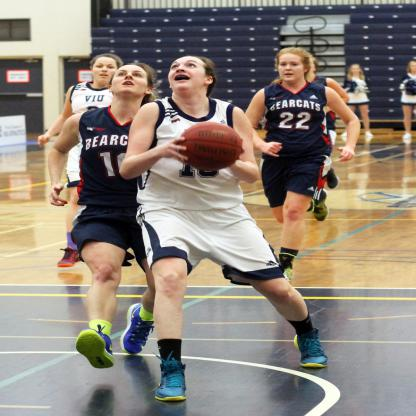Ball: (177, 123, 246, 171)
